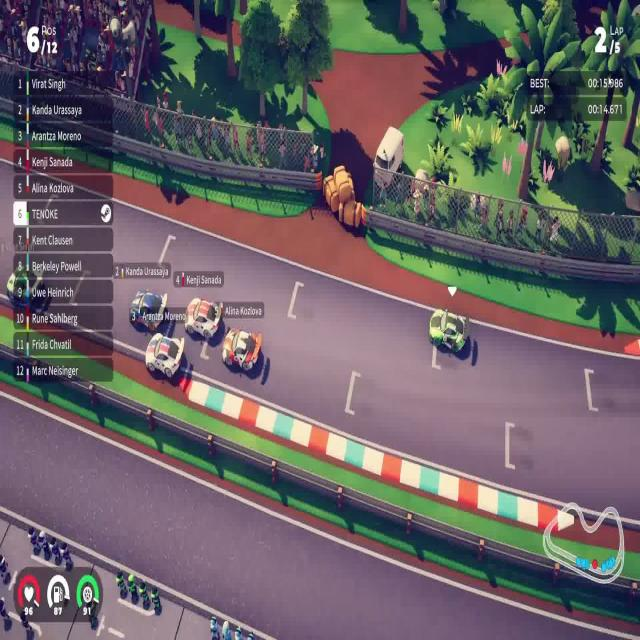car: (144, 331, 185, 380), (221, 325, 262, 373), (428, 307, 469, 354), (184, 296, 224, 340), (128, 288, 168, 332)
